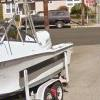Boat: (1, 25, 82, 99)
